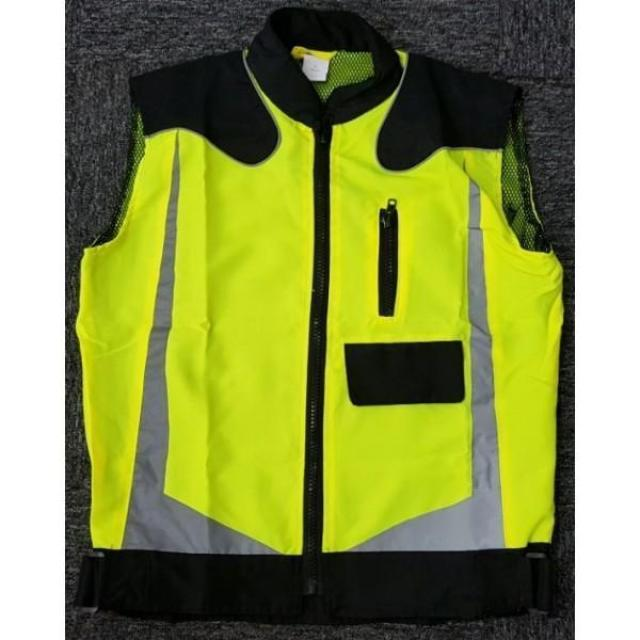Vest: (74, 4, 566, 614)
